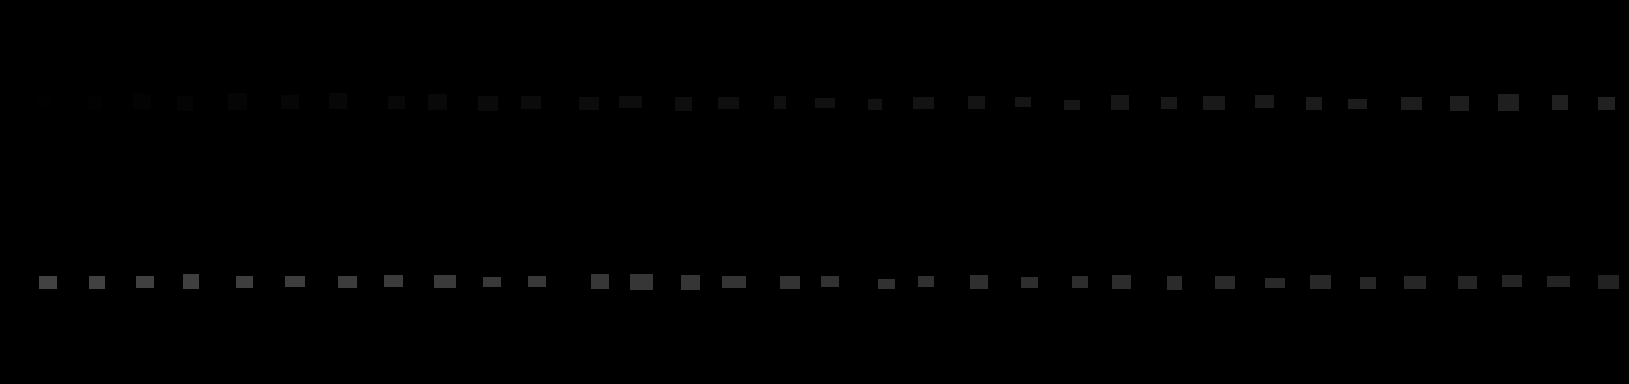light: (630, 274, 653, 290), (1498, 94, 1519, 111), (228, 93, 247, 110), (1203, 95, 1225, 110), (478, 95, 498, 111), (722, 276, 746, 289), (434, 275, 456, 289), (428, 94, 447, 110), (1450, 95, 1469, 111), (680, 275, 700, 290), (619, 95, 642, 108), (1404, 276, 1426, 289), (520, 95, 541, 109), (579, 97, 599, 110), (1401, 97, 1422, 110), (1598, 275, 1619, 289), (1310, 275, 1331, 289), (329, 93, 347, 109), (1111, 95, 1129, 110), (1112, 275, 1131, 289), (1547, 276, 1570, 287), (177, 95, 193, 111), (718, 97, 739, 109), (913, 97, 934, 109), (133, 94, 151, 109), (591, 274, 609, 289), (281, 95, 299, 109), (1502, 275, 1522, 287), (1458, 276, 1477, 289), (1216, 276, 1235, 289), (780, 276, 800, 289), (338, 276, 357, 289), (675, 97, 692, 111), (183, 274, 199, 289), (388, 95, 405, 109), (1598, 97, 1615, 110), (970, 275, 988, 289), (285, 276, 305, 287), (1255, 95, 1274, 108), (384, 275, 403, 287), (1552, 95, 1568, 110), (968, 95, 985, 109), (236, 276, 253, 289), (136, 276, 154, 289), (39, 276, 57, 289), (814, 98, 835, 108), (821, 276, 839, 287), (528, 276, 546, 287), (1306, 97, 1321, 110), (1167, 276, 1182, 290), (1265, 278, 1285, 289), (88, 95, 102, 110), (37, 95, 53, 108), (1161, 97, 1177, 109), (1348, 99, 1367, 109), (1072, 276, 1088, 289), (89, 276, 105, 289), (1021, 277, 1038, 289), (483, 277, 501, 287), (1360, 277, 1376, 289), (918, 276, 934, 287), (1064, 100, 1080, 110), (774, 95, 786, 109), (867, 99, 882, 110), (1015, 97, 1031, 107), (878, 279, 894, 289)
